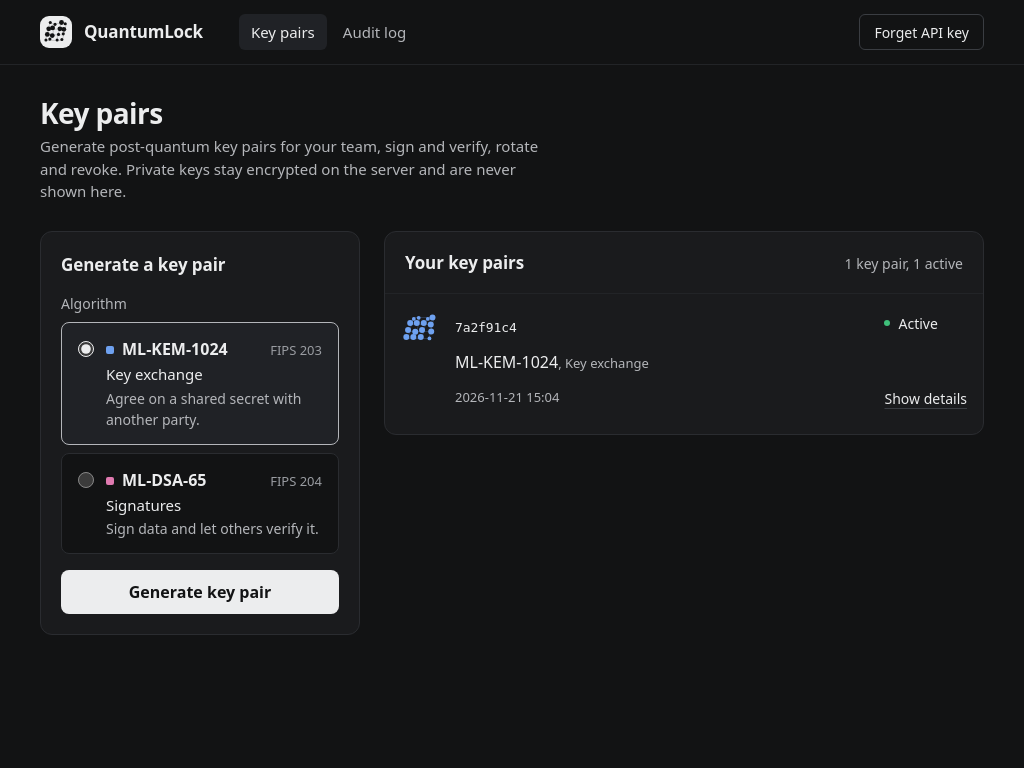
rotate and revoke › a rejected API key during an action asks for a new key
Expected: the table is shown, [385,293,983,434]
Step 1. Click the button with aria-label "Show details of 7a2f91c4" → (926, 398), box [884,376,967,420]
(page scrolled)
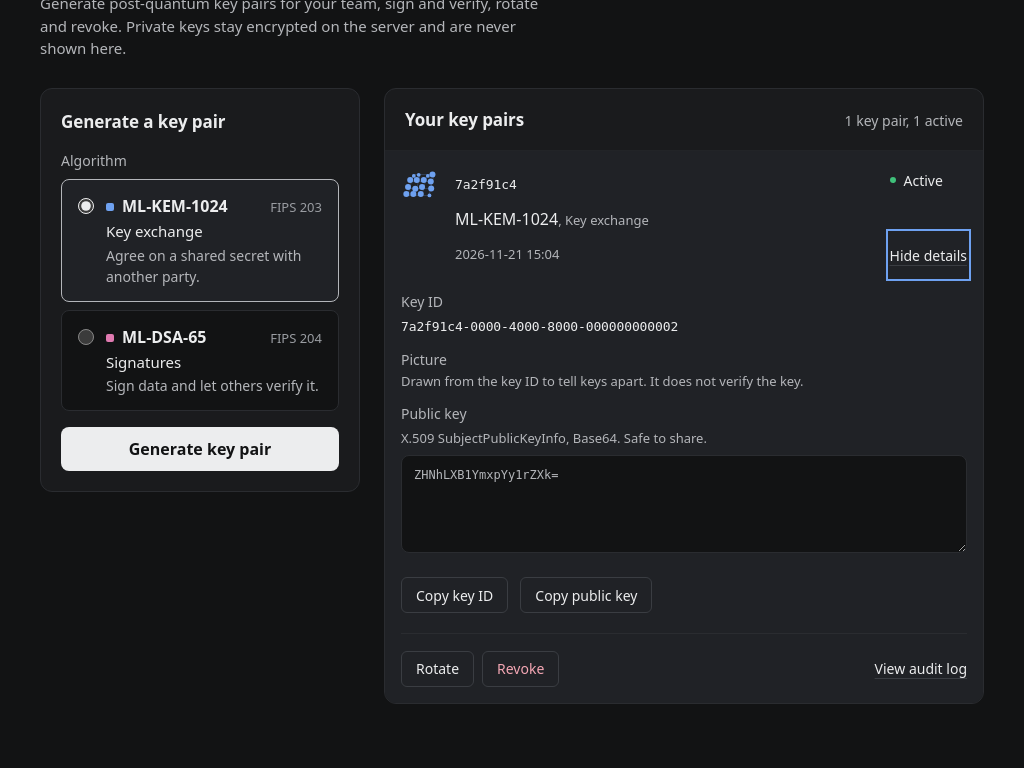
Step 2. Click the button "Revoke" → (521, 669), box [482,651,559,687]
(page scrolled)
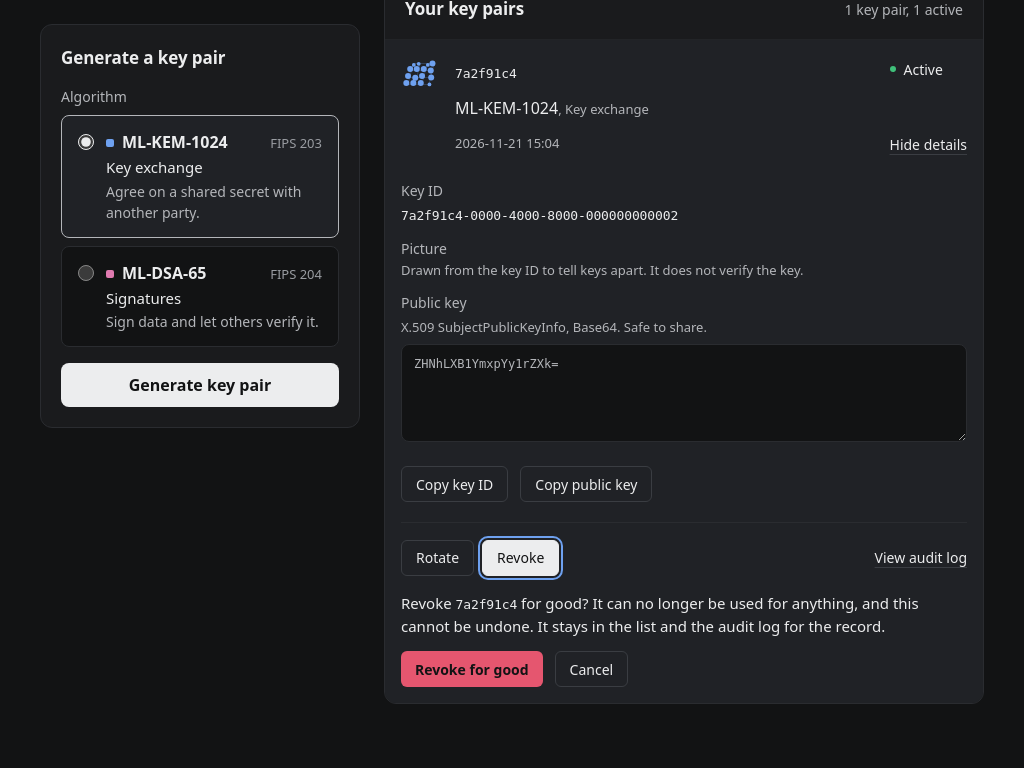
Step 3. Click the button "Revoke for good" → (472, 669), box [401,651,543,687]
(page scrolled)
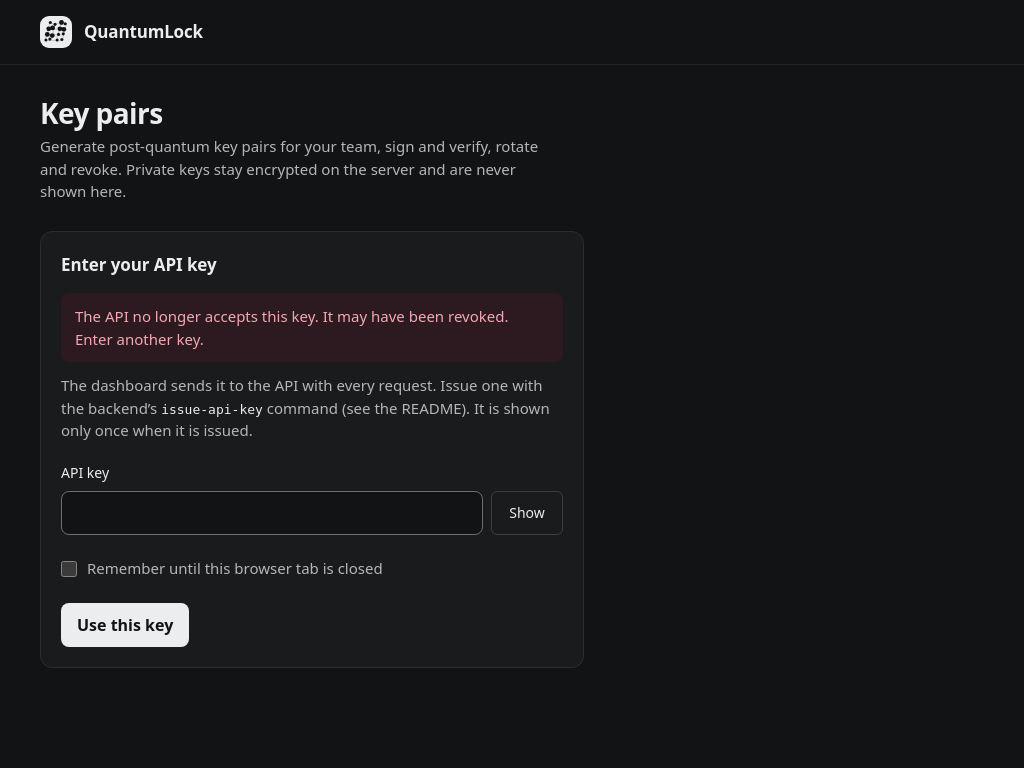
Now the heading "Enter your API key" is shown, box [61,253,217,276]
